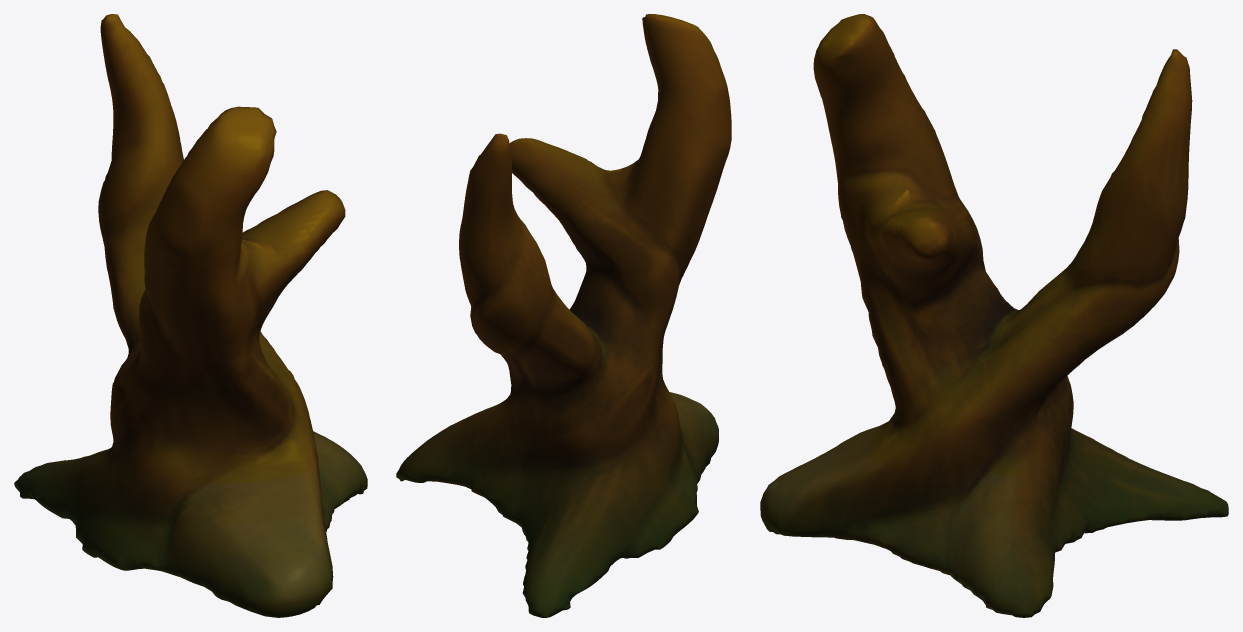
The model's file is tree1.fbx.
3 renders of one model, left to right at view 1: azimuth 30°, elevation 25°; view 2: azimuth 150°, elevation 25°; view 3: azimuth 270°, elevation 25°, orthographic. The views are drawn at different scales.
Visible parts, largest first — view 1: Tree_high.001; view 2: Tree_high.001; view 3: Tree_high.001.
Part boxes in pixels (x1,y1,x2,y2): Tree_high.001: (14,14,367,617); Tree_high.001: (396,14,731,617); Tree_high.001: (760,14,1228,617).
Bounding box in the file's own units: 487 × 821 × 675.
1 material, 1 textured.
